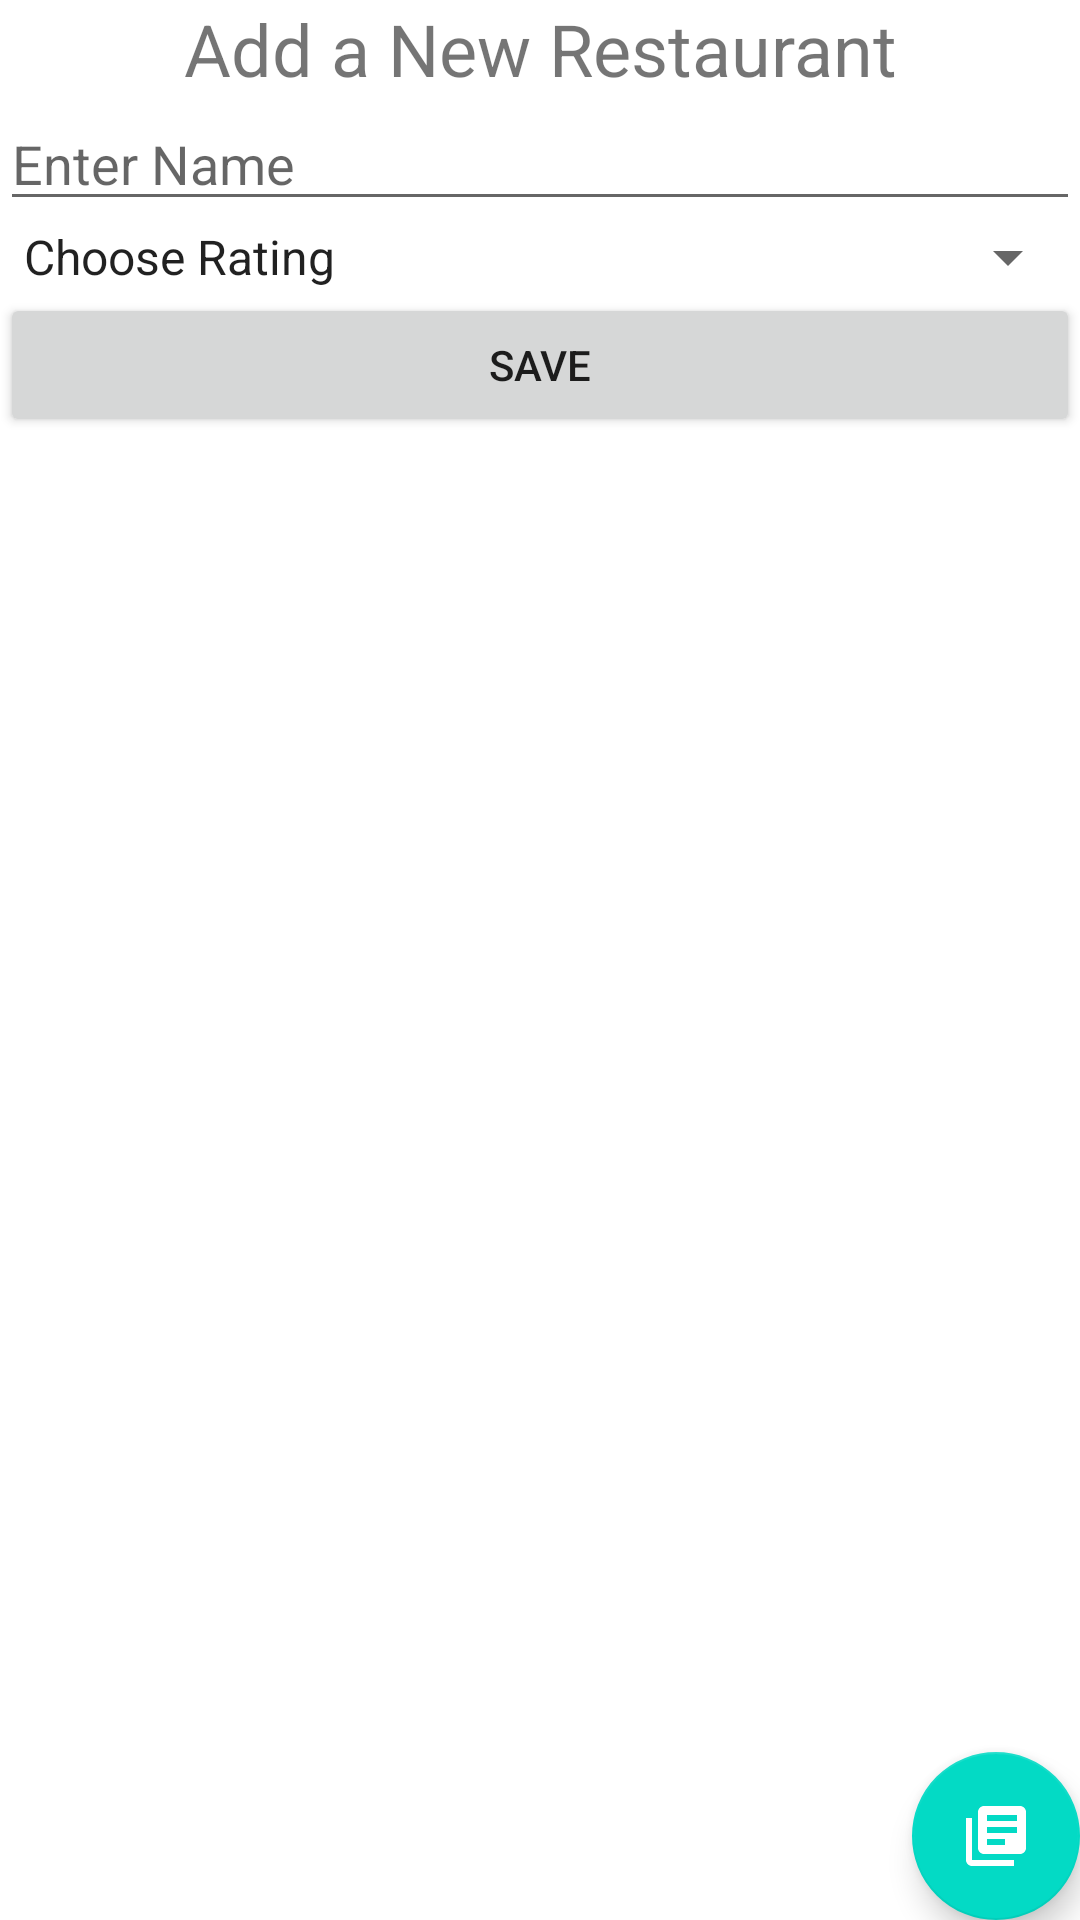

Point at icon controls on the screen. Image size 1080w x 1920h, points as [x,y].
library books: [996,1836]
